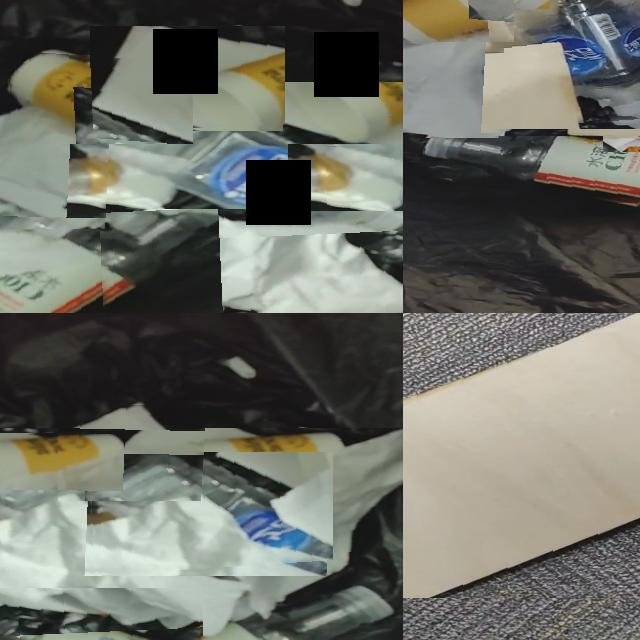bottle: (72, 83, 403, 244), (92, 452, 333, 563), (0, 214, 215, 313), (498, 0, 640, 120), (424, 136, 640, 199), (315, 509, 403, 571), (360, 157, 403, 220)
carton: (403, 313, 640, 598)
dixie_cup: (10, 53, 193, 144), (0, 435, 128, 483), (403, 0, 514, 42)
paper: (0, 431, 403, 640), (100, 209, 403, 313), (92, 26, 285, 128), (58, 404, 205, 501), (0, 110, 110, 220), (403, 25, 502, 138), (292, 146, 403, 211), (603, 138, 640, 152)
